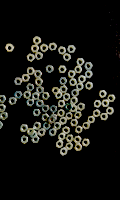nut: (31, 44, 40, 53), (67, 45, 76, 54), (63, 53, 72, 62), (21, 74, 30, 83), (8, 97, 17, 106), (65, 103, 74, 112), (82, 122, 91, 131), (59, 117, 68, 126), (53, 122, 62, 131), (62, 126, 71, 135), (21, 135, 29, 145), (5, 44, 14, 52), (33, 36, 41, 45), (40, 44, 48, 53), (58, 47, 67, 55), (35, 52, 43, 61), (27, 54, 35, 63), (14, 78, 23, 86), (34, 70, 43, 78), (46, 65, 54, 74), (58, 66, 67, 74), (76, 58, 85, 66), (84, 62, 93, 70), (74, 66, 83, 74), (78, 75, 86, 84), (34, 78, 43, 86), (26, 84, 35, 92), (23, 91, 31, 100), (14, 91, 23, 99), (0, 112, 8, 121), (59, 77, 68, 85), (69, 79, 78, 87), (76, 83, 84, 92), (85, 82, 94, 90), (36, 86, 44, 95), (32, 92, 40, 101), (52, 87, 61, 95), (63, 93, 71, 102), (71, 89, 79, 98), (26, 99, 35, 107), (41, 105, 50, 113), (50, 105, 58, 114), (57, 100, 66, 108), (70, 119, 79, 127), (75, 126, 83, 135), (87, 116, 96, 124), (100, 113, 109, 121), (106, 107, 115, 115), (107, 95, 116, 103), (99, 90, 107, 99), (66, 112, 74, 121), (48, 116, 56, 125), (41, 114, 50, 122), (43, 122, 51, 131), (49, 128, 57, 137), (33, 122, 41, 131), (38, 128, 46, 137), (20, 124, 28, 133), (27, 128, 36, 136), (30, 131, 38, 140), (31, 136, 40, 144), (58, 133, 66, 142), (66, 135, 75, 143), (56, 140, 64, 149), (60, 148, 68, 157), (65, 143, 74, 151), (74, 144, 83, 152), (49, 43, 57, 51), (68, 70, 76, 78), (85, 71, 93, 79), (42, 92, 50, 100), (60, 86, 68, 94), (55, 92, 63, 100), (36, 100, 44, 108), (33, 109, 41, 117), (70, 97, 78, 105), (70, 105, 78, 113), (78, 103, 86, 111), (74, 111, 82, 119), (93, 110, 101, 118), (94, 100, 102, 108), (102, 100, 110, 108), (74, 136, 82, 144), (82, 139, 90, 147), (26, 68, 35, 75), (58, 109, 65, 118), (50, 114, 58, 121), (0, 104, 6, 113), (0, 95, 6, 103), (0, 121, 4, 130)
